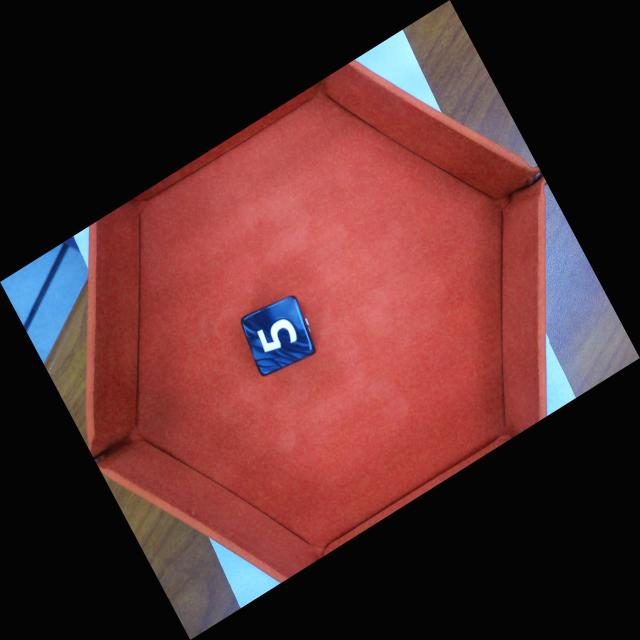dice: (237, 293, 320, 380)
